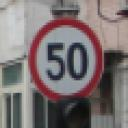speed_limit_50: (26, 15, 106, 103)
